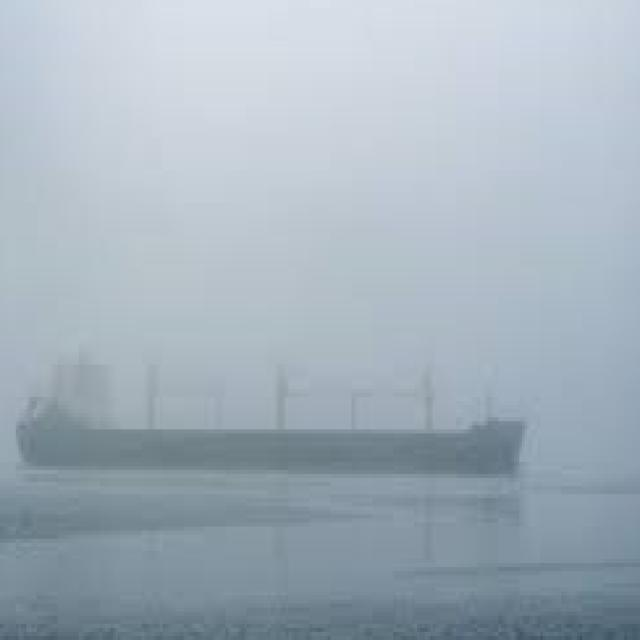cargoship: (18, 340, 523, 481)
